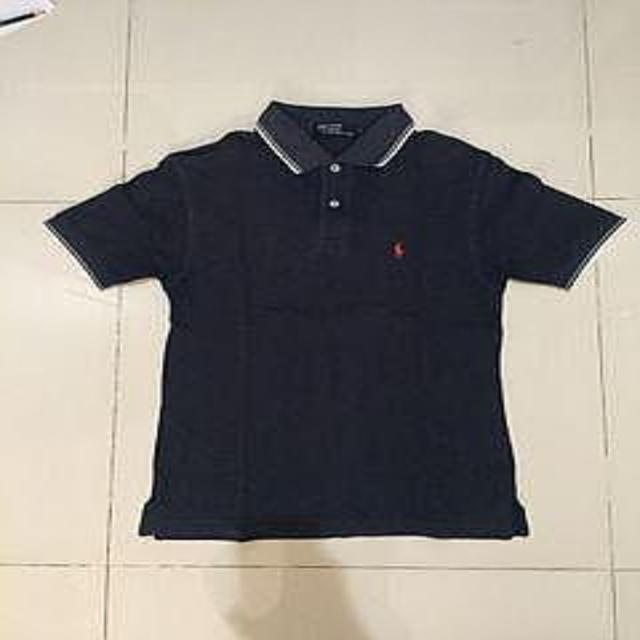T_SHIRT: (23, 87, 629, 562)
